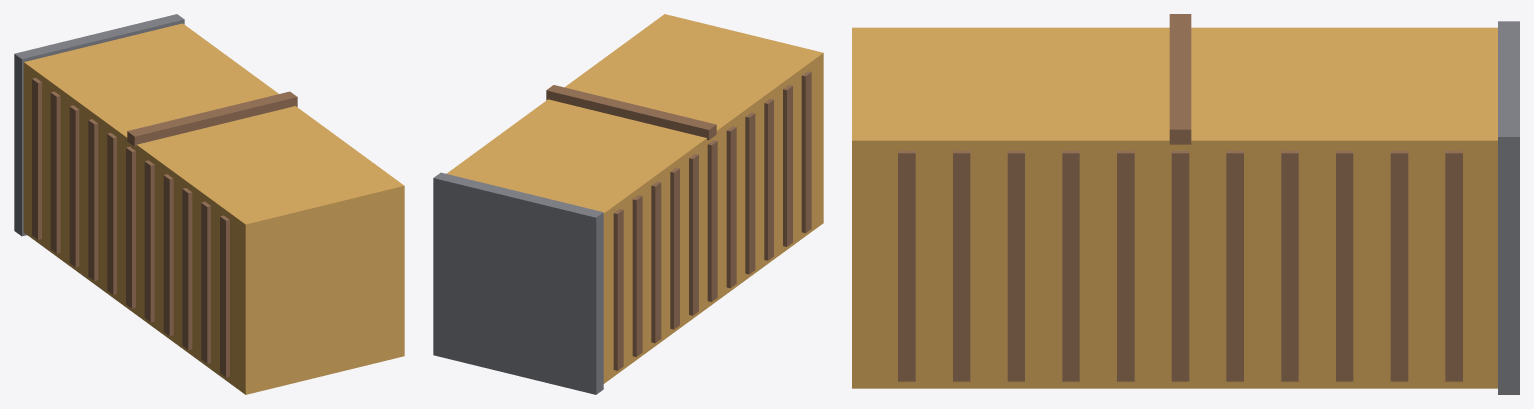
File: wasteland_container_orange.glb
The picture shows the model from 3 angles, left to right: view 1: azimuth 30°, elevation 25°; view 2: azimuth 150°, elevation 25°; view 3: azimuth 270°, elevation 25°; orthographic projection. The views are drawn at different scales.
Parts seen in each view (by area): view 1: Prop_ContainerOrange; view 2: Prop_ContainerOrange; view 3: Prop_ContainerOrange.
Boxes of the visible parts, x1=… form: Prop_ContainerOrange: x1=14, y1=14, x2=404, y2=394; Prop_ContainerOrange: x1=433, y1=14, x2=823, y2=394; Prop_ContainerOrange: x1=852, y1=14, x2=1519, y2=394.
Size of the model in its own units: 2.56 by 2.67 by 6.1.
